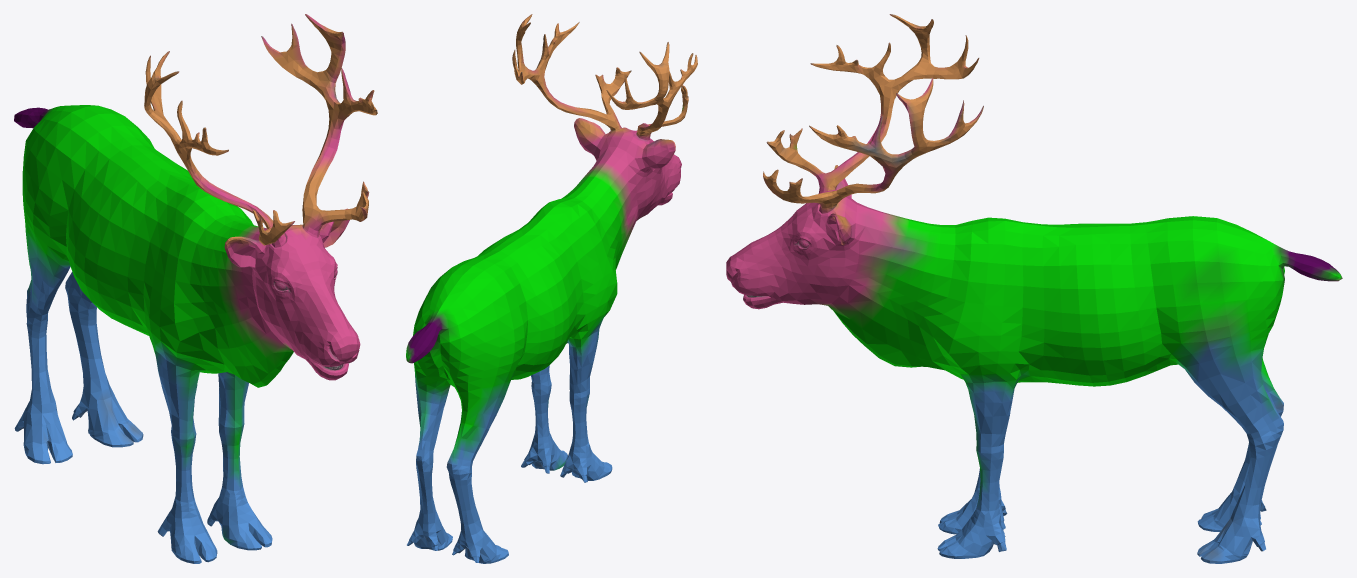
The picture shows the model from 3 angles, left to right: view 1: azimuth 30°, elevation 25°; view 2: azimuth 150°, elevation 25°; view 3: azimuth 270°, elevation 25°; orthographic projection. The views are drawn at different scales.
Parts seen in each view (by area): view 1: geometry_0.013; view 2: geometry_0.013; view 3: geometry_0.013.
Boxes of the visible parts, x1,y1,x2,y2 form: geometry_0.013: [14, 14, 377, 563]; geometry_0.013: [406, 14, 697, 563]; geometry_0.013: [726, 14, 1342, 563].
Bounding box in the file's own units: 1.25 × 3.24 × 3.68.
